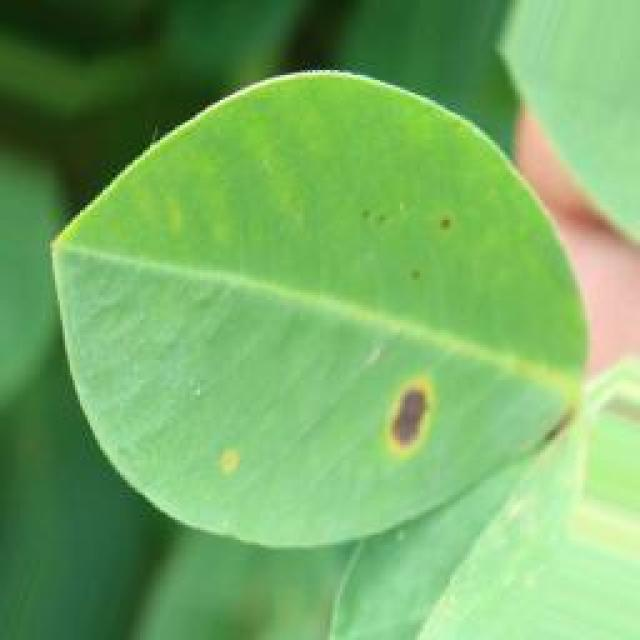Early_leaf_spot: (352, 355, 454, 485), (390, 199, 460, 295), (201, 405, 240, 489)
